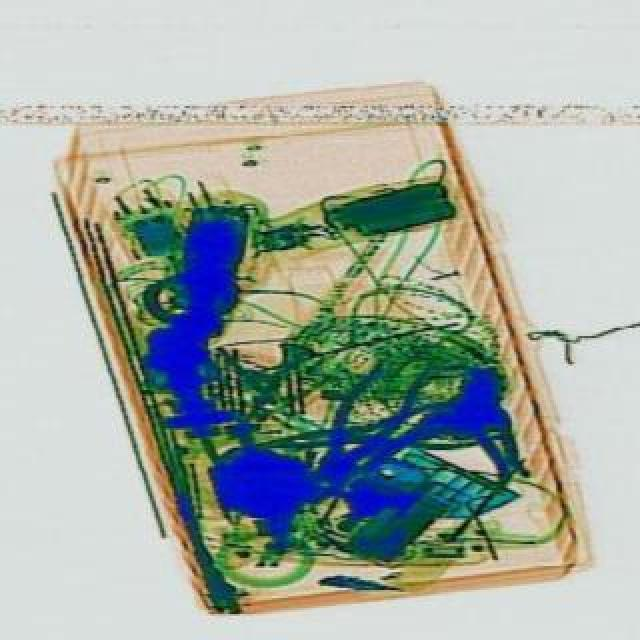wrench: (292, 338, 436, 498), (254, 396, 498, 468)
